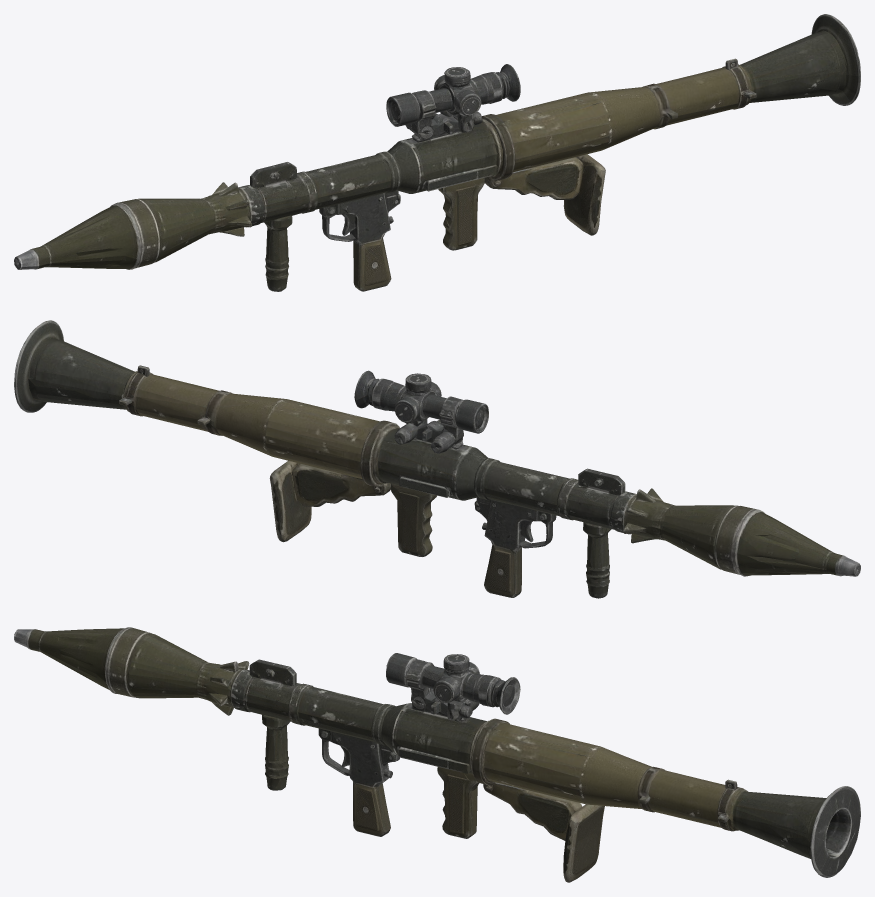
File: rocket.glb
3 views of the same model, one above another, from view 1: azimuth 30°, elevation 25°; view 2: azimuth 150°, elevation 25°; view 3: azimuth 330°, elevation 25° (orthographic).
Visible parts, largest first — view 1: Mesh_0; view 2: Mesh_0; view 3: Mesh_0.
Part boxes in pixels (box(x1,y1,x2,y2)): Mesh_0: box(14, 14, 860, 291); Mesh_0: box(14, 320, 860, 598); Mesh_0: box(14, 627, 860, 882).
Bounding box in the file's own units: 1.9 × 0.4319 × 0.1966.
Materials: 1 (1 with a texture image).
